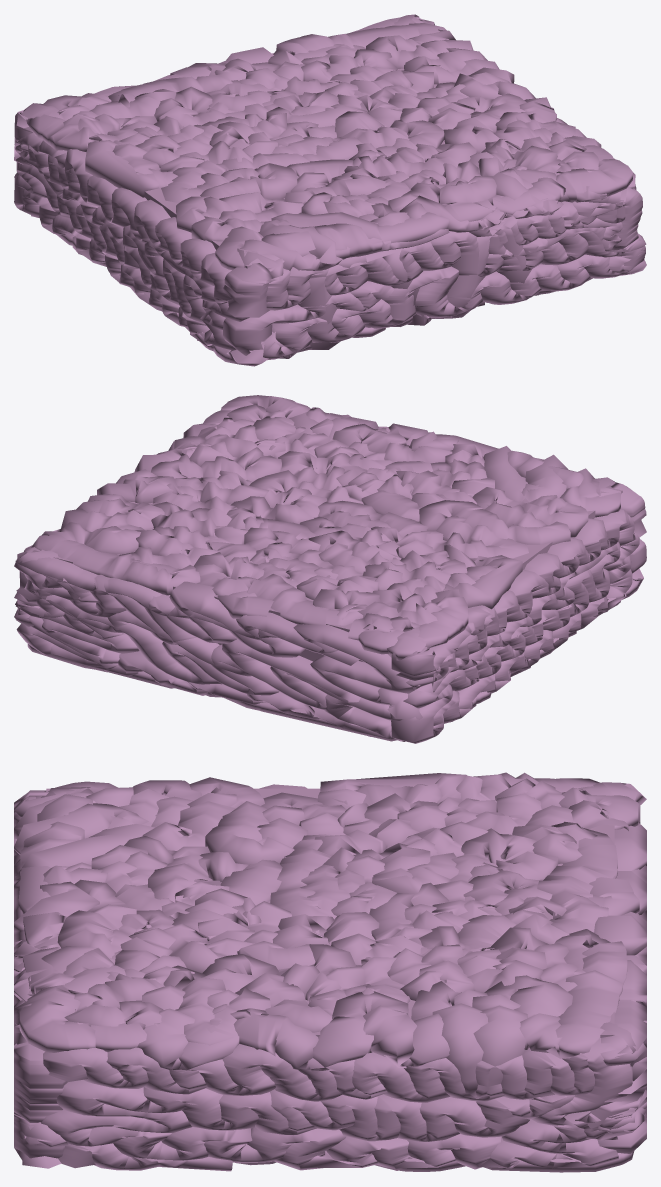
The model's file is brain texture.fbx.
3 views of the same model, one above another, from view 1: azimuth 30°, elevation 25°; view 2: azimuth 150°, elevation 25°; view 3: azimuth 270°, elevation 25° (orthographic). The views are drawn at different scales.
Parts seen in each view (by area): view 1: smoothskin35Main; view 2: smoothskin35Main; view 3: smoothskin35Main.
Boxes of the visible parts, left/top/right/bottom form: smoothskin35Main: left=14, top=14, right=646, bottom=366; smoothskin35Main: left=14, top=395, right=646, bottom=743; smoothskin35Main: left=14, top=772, right=646, bottom=1172.
Bounding box in the file's own units: 4.42 × 1.12 × 4.31.
